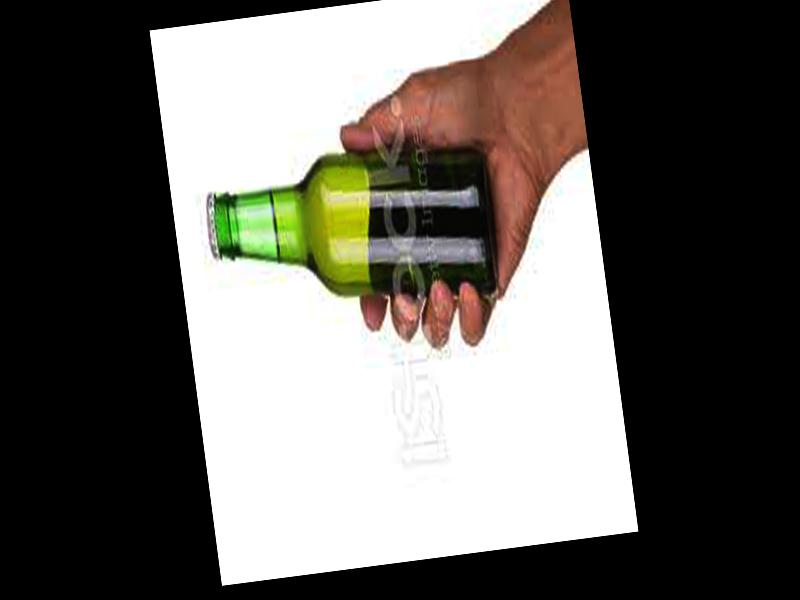Beer: (200, 131, 500, 320)
